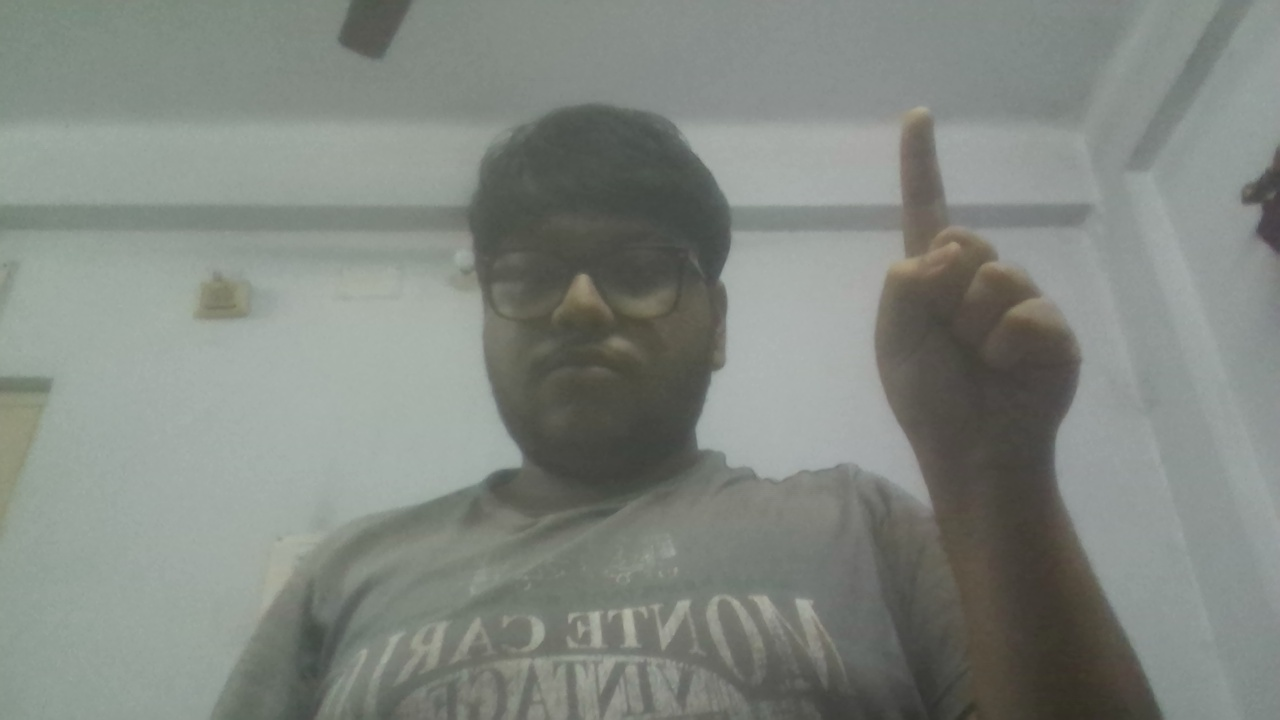Gesture1: (864, 100, 1103, 471)
